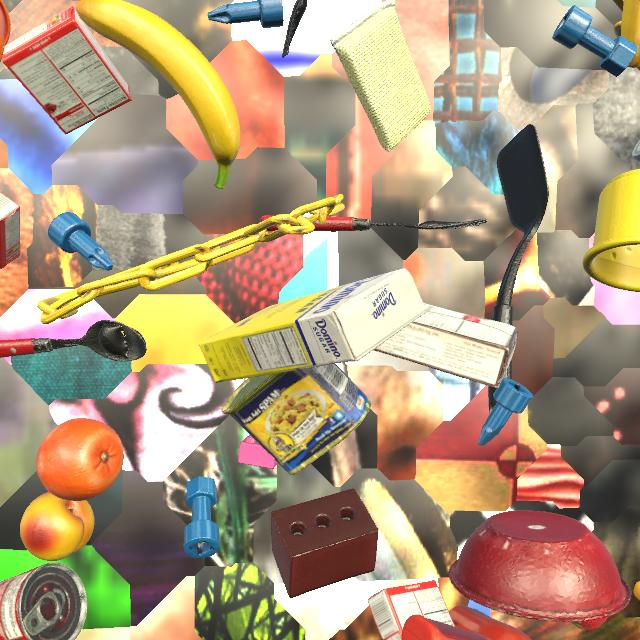ycb_002_master_chef_can: (632, 140, 640, 162)
ycb_004_sugar_box: (199, 268, 426, 383)
ycb_005_tomato_soup_can: (0, 562, 87, 640)
ycb_008_pudding_box: (374, 303, 518, 389)
ycb_009_gelatin_box: (2, 6, 132, 134), (367, 580, 455, 640), (0, 191, 21, 269)
ycb_010_potted_meat_can: (221, 363, 371, 475)
ycb_011_banana: (77, 0, 241, 189), (621, 0, 640, 68), (633, 581, 640, 600)
ycb_012_strawberry: (571, 616, 609, 630)
ycb_015_peach: (20, 492, 95, 561)
ycb_016_pear: (75, 0, 81, 1)
ycb_017_orange: (36, 418, 124, 501)
